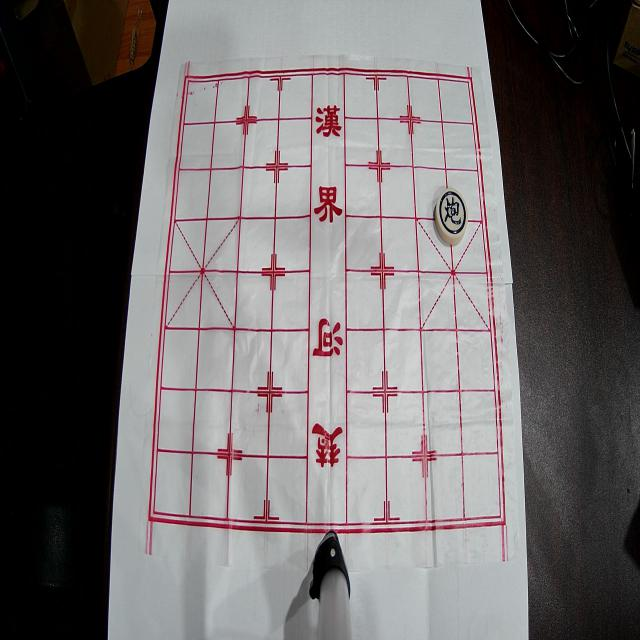black-cannon: (435, 188, 468, 245)
